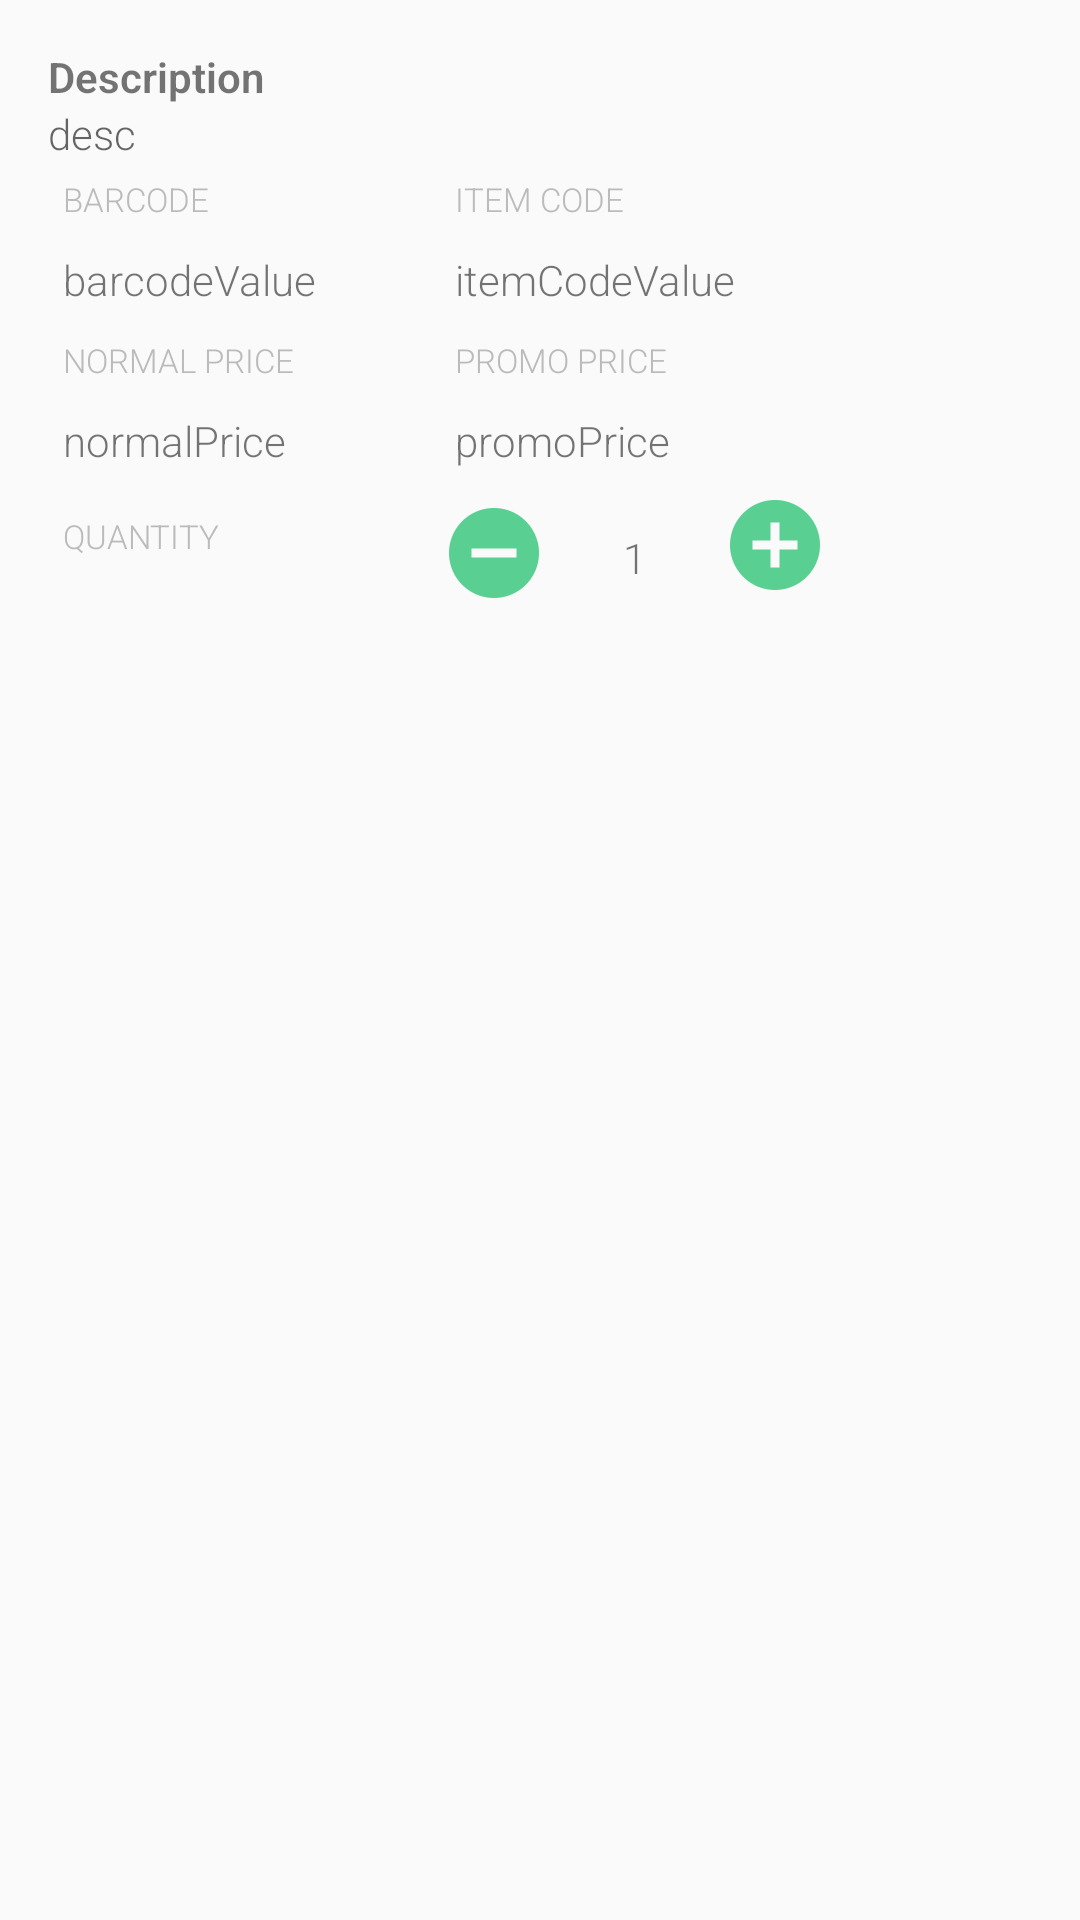

Screen size 1080px×1920px. Icon name, then its box in pixels as detection(x1, y1, x2, y2):
add circle: detection(730, 500, 820, 590)
remove circle: detection(449, 508, 539, 598)
